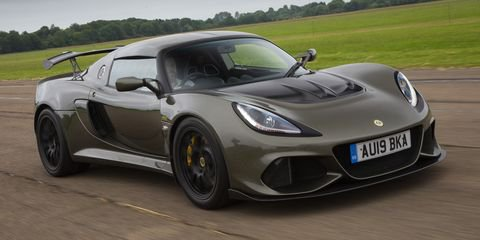car: (29, 28, 451, 208)
